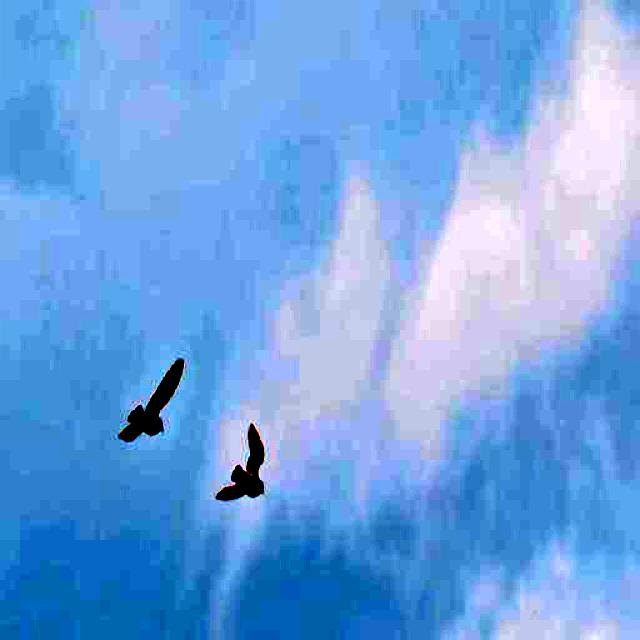airplane: (109, 336, 190, 456), (212, 402, 272, 528)
